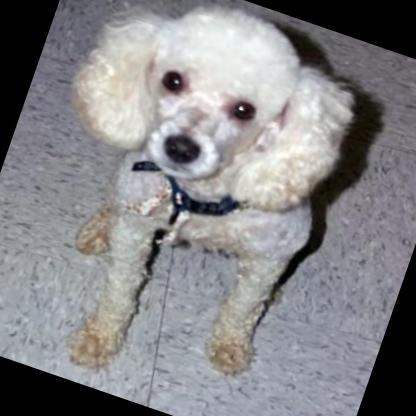miniature_poodle: (0, 0, 381, 416)
